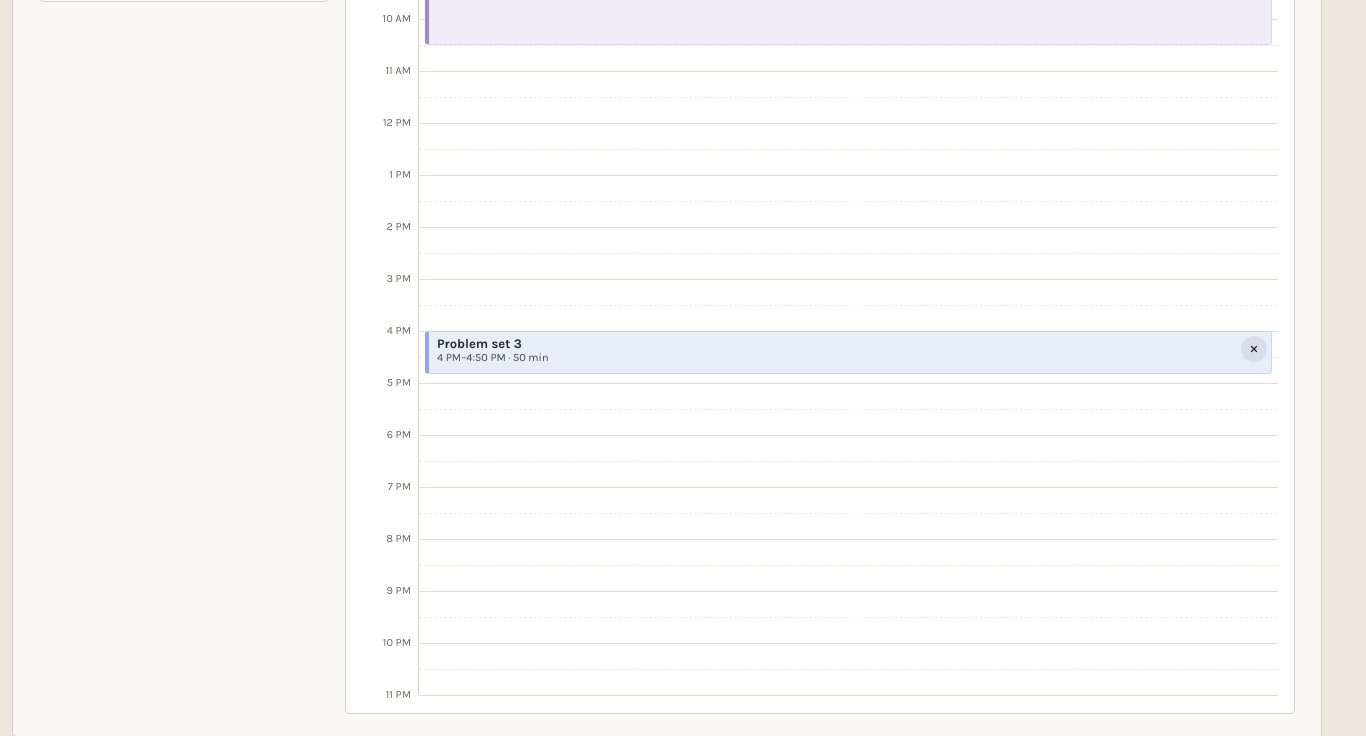
it: tapping a task on the day schedule opens a pop-up to edit it and add a note
(page scrolled)
Press the mouse on the element showing "Problem set 3 4 PM–4:50 PM · 50 min" at coordinates (848, 352), box [425,331,1272,374]
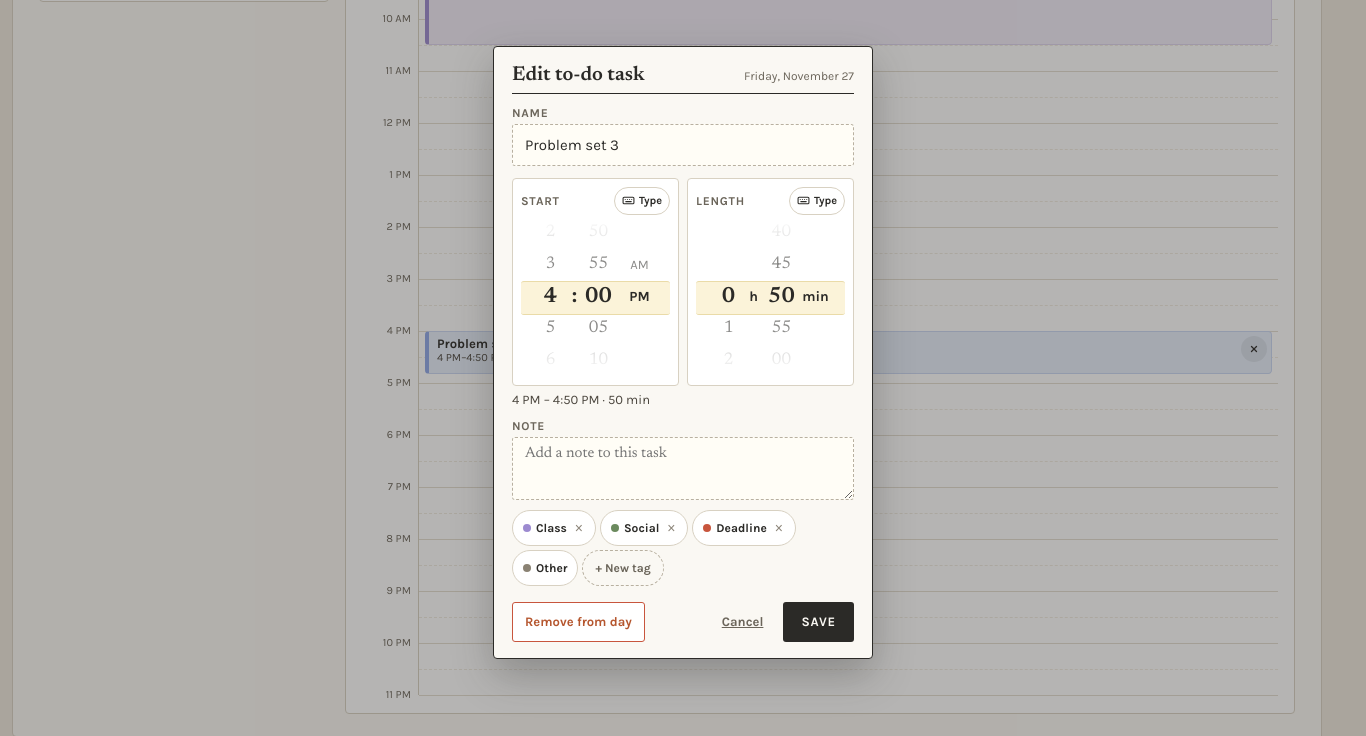
Check: the dialog "Edit to-do task" is shown, box [493,46,873,658]
Type "Questions 4–9 only" into the text box with placeholder "Add a note to this task" at coordinates (683, 468), box [512,436,854,500]
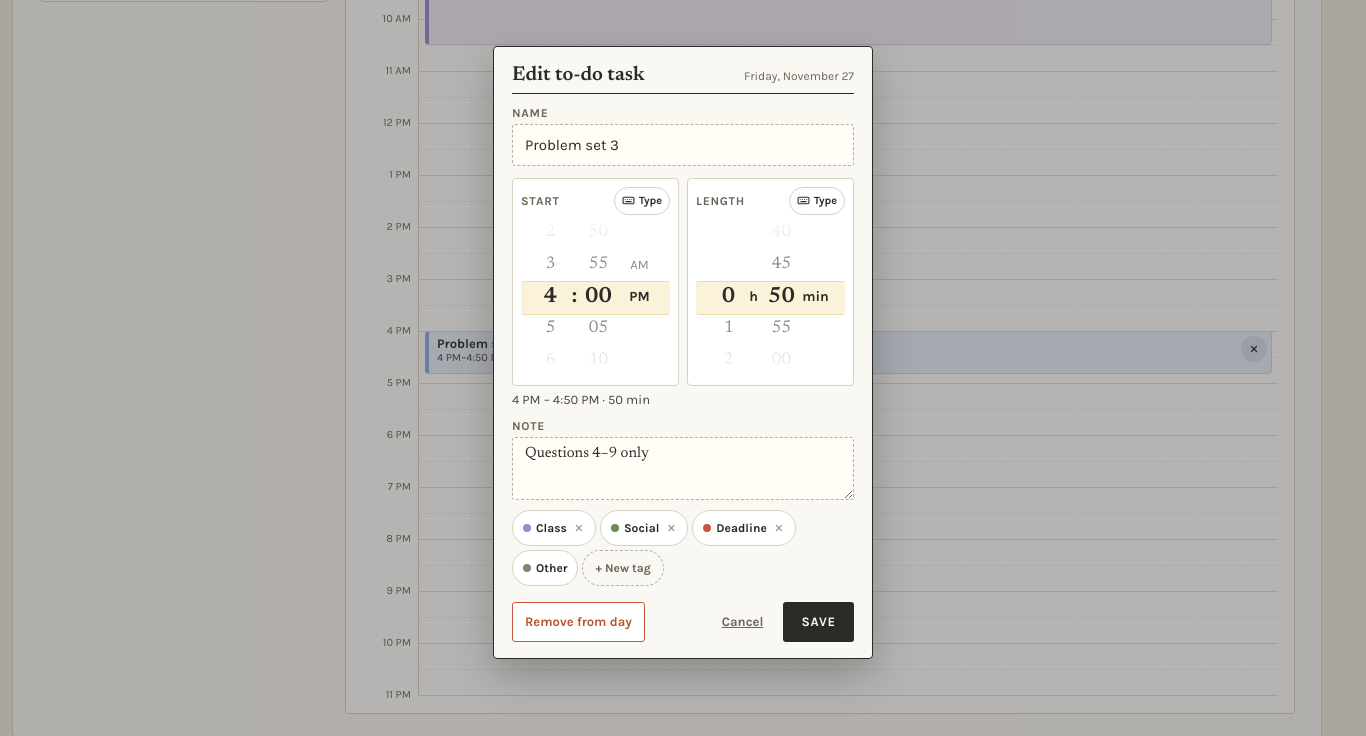
Click the button "SAVE" at coordinates (819, 622), box [783,602,854,642]
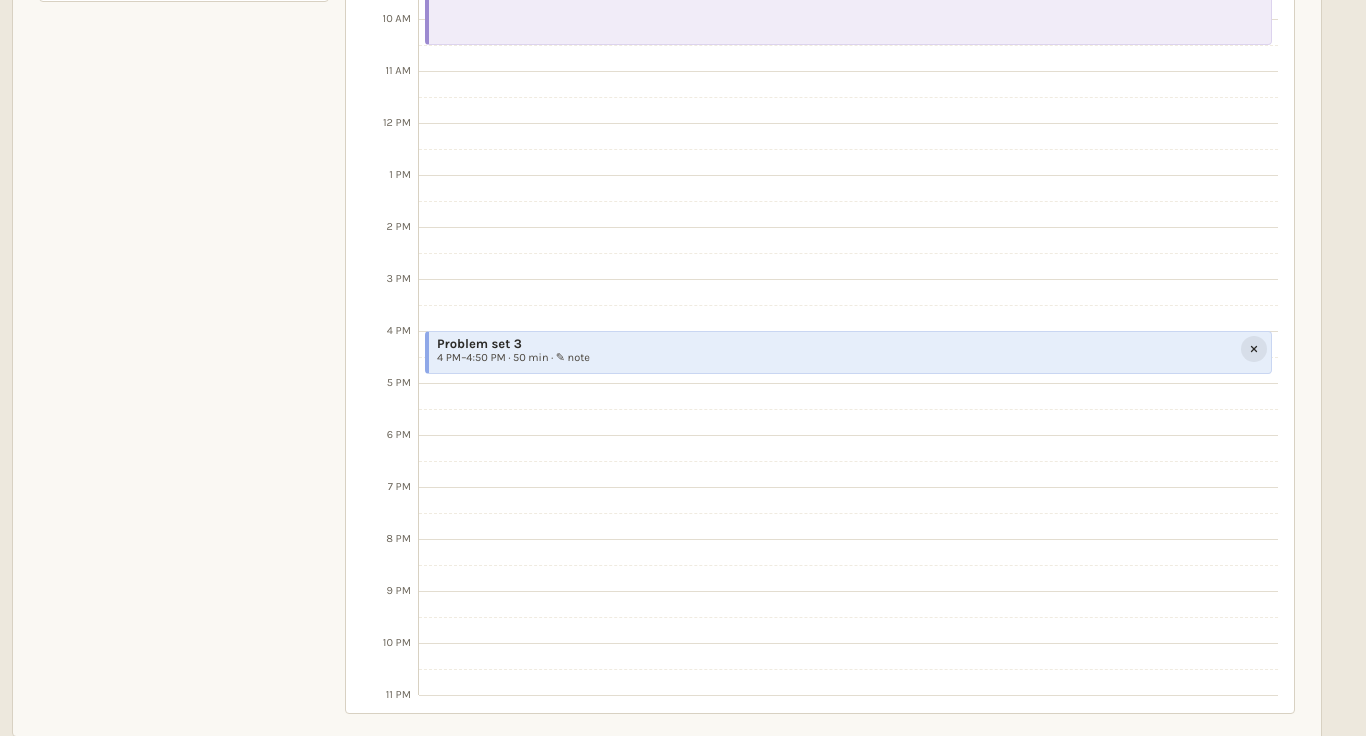
Check: the element showing "Problem set 3 4 PM–4:50 PM · 50 min · ✎ note" is shown, box [425,331,1272,374]
